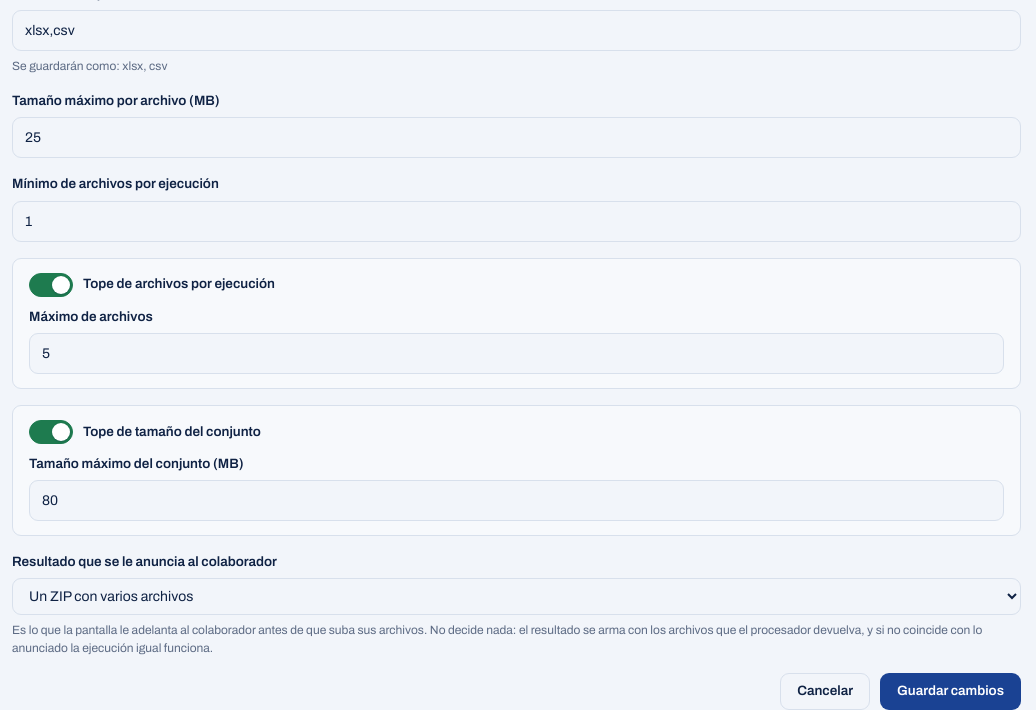
Test: <ProcesadorForm /> › says nothing changed instead of sending an empty edit
This screenshot has width=1036, height=710.
(page scrolled)
Click the button "Guardar cambios": (950, 692) [880,673,1021,709]
(page scrolled)
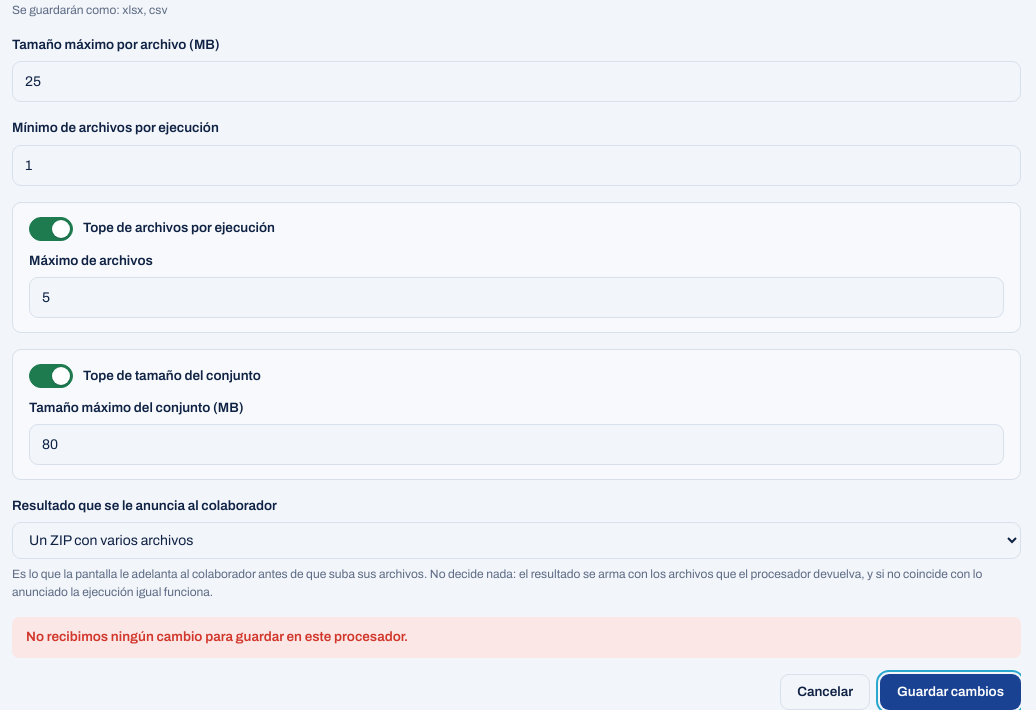
Result: the text "No recibimos ningún cambio para guardar en este procesador." is shown at [12,617,1021,658]
